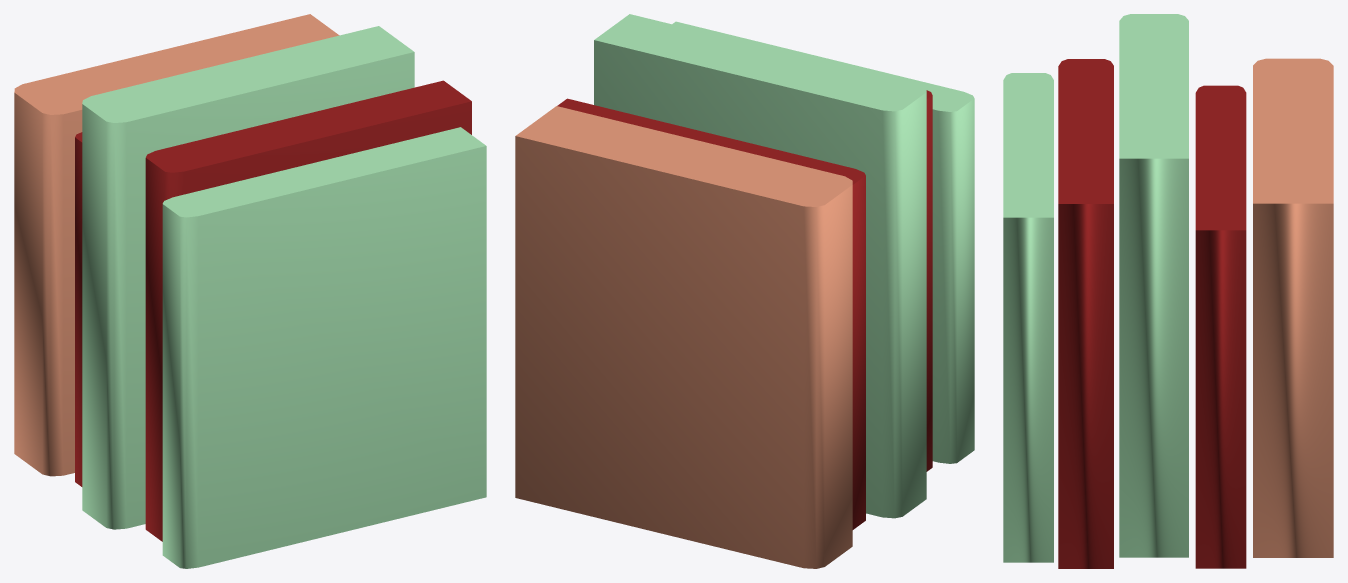
The model's file is books.011.gltf.
The picture shows the model from 3 angles, left to right: view 1: azimuth 30°, elevation 25°; view 2: azimuth 150°, elevation 25°; view 3: azimuth 270°, elevation 25°; orthographic projection. The views are drawn at different scales.
Visible parts, largest first — view 1: books.011; view 2: books.011; view 3: books.011.
Part boxes in pixels (<box>): books.011: <box>14,14,486,568</box>; books.011: <box>515,14,974,568</box>; books.011: <box>1003,14,1333,568</box>.
Bounding box in the file's own units: 1.03 × 1.22 × 0.9164.
